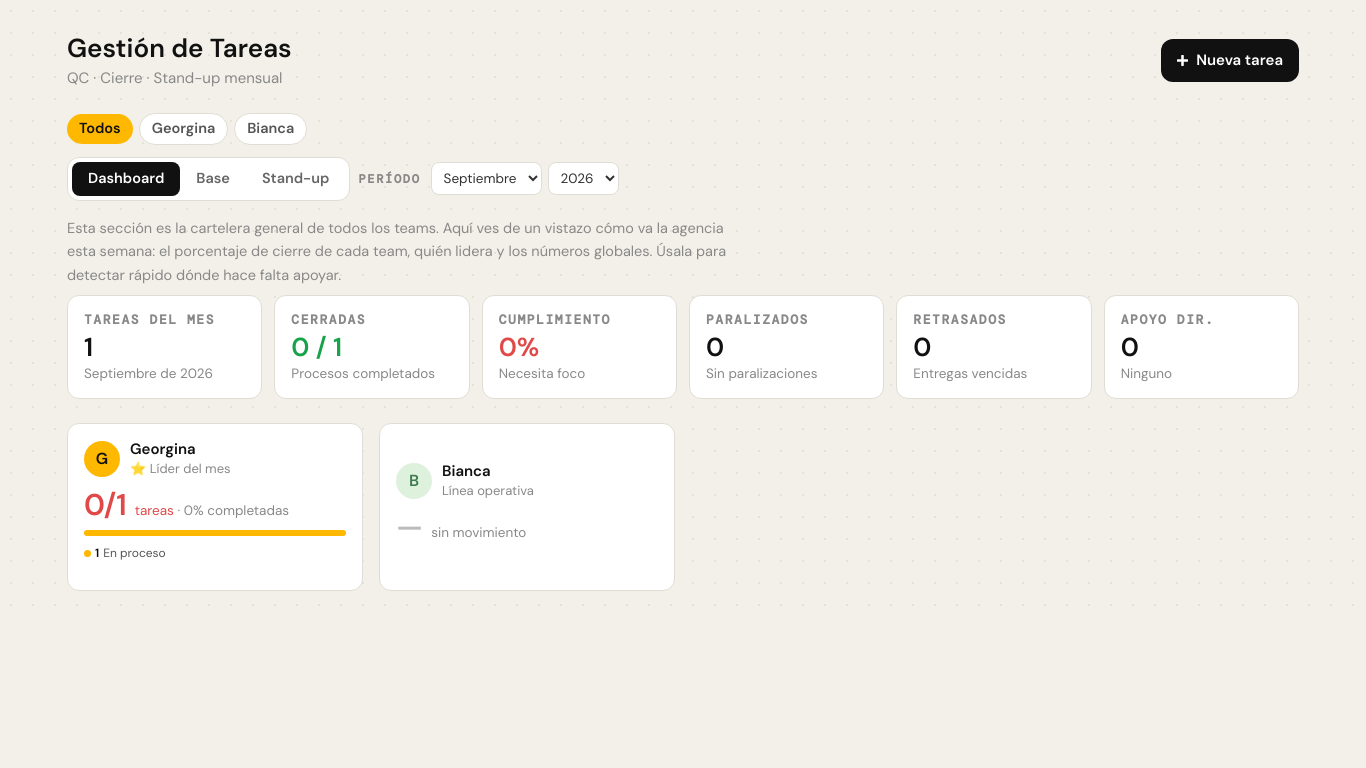
Test: TareasPage › dashboard KPI cards navigate to Base › "Cerradas" opens Base filtered by Estatus: Terminado
The width and height of the screenshot is (1366, 768).
Expected: the text "Cumplimiento" is shown, [499,311,611,328]
Click the text "Cerradas".
click(329, 320)  # box [291,311,366,328]
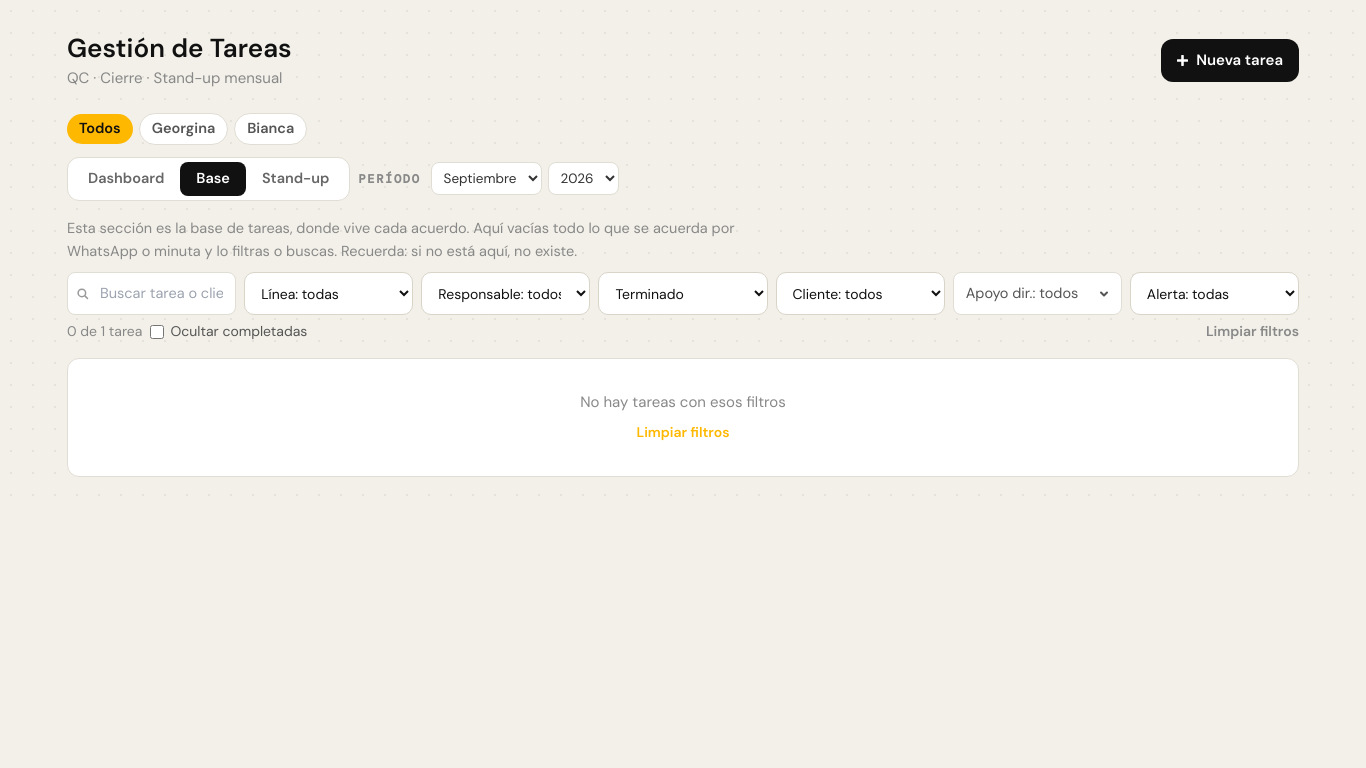
Now the 5th dropdown showing "Terminado" is shown, box [598,272,768,315]
